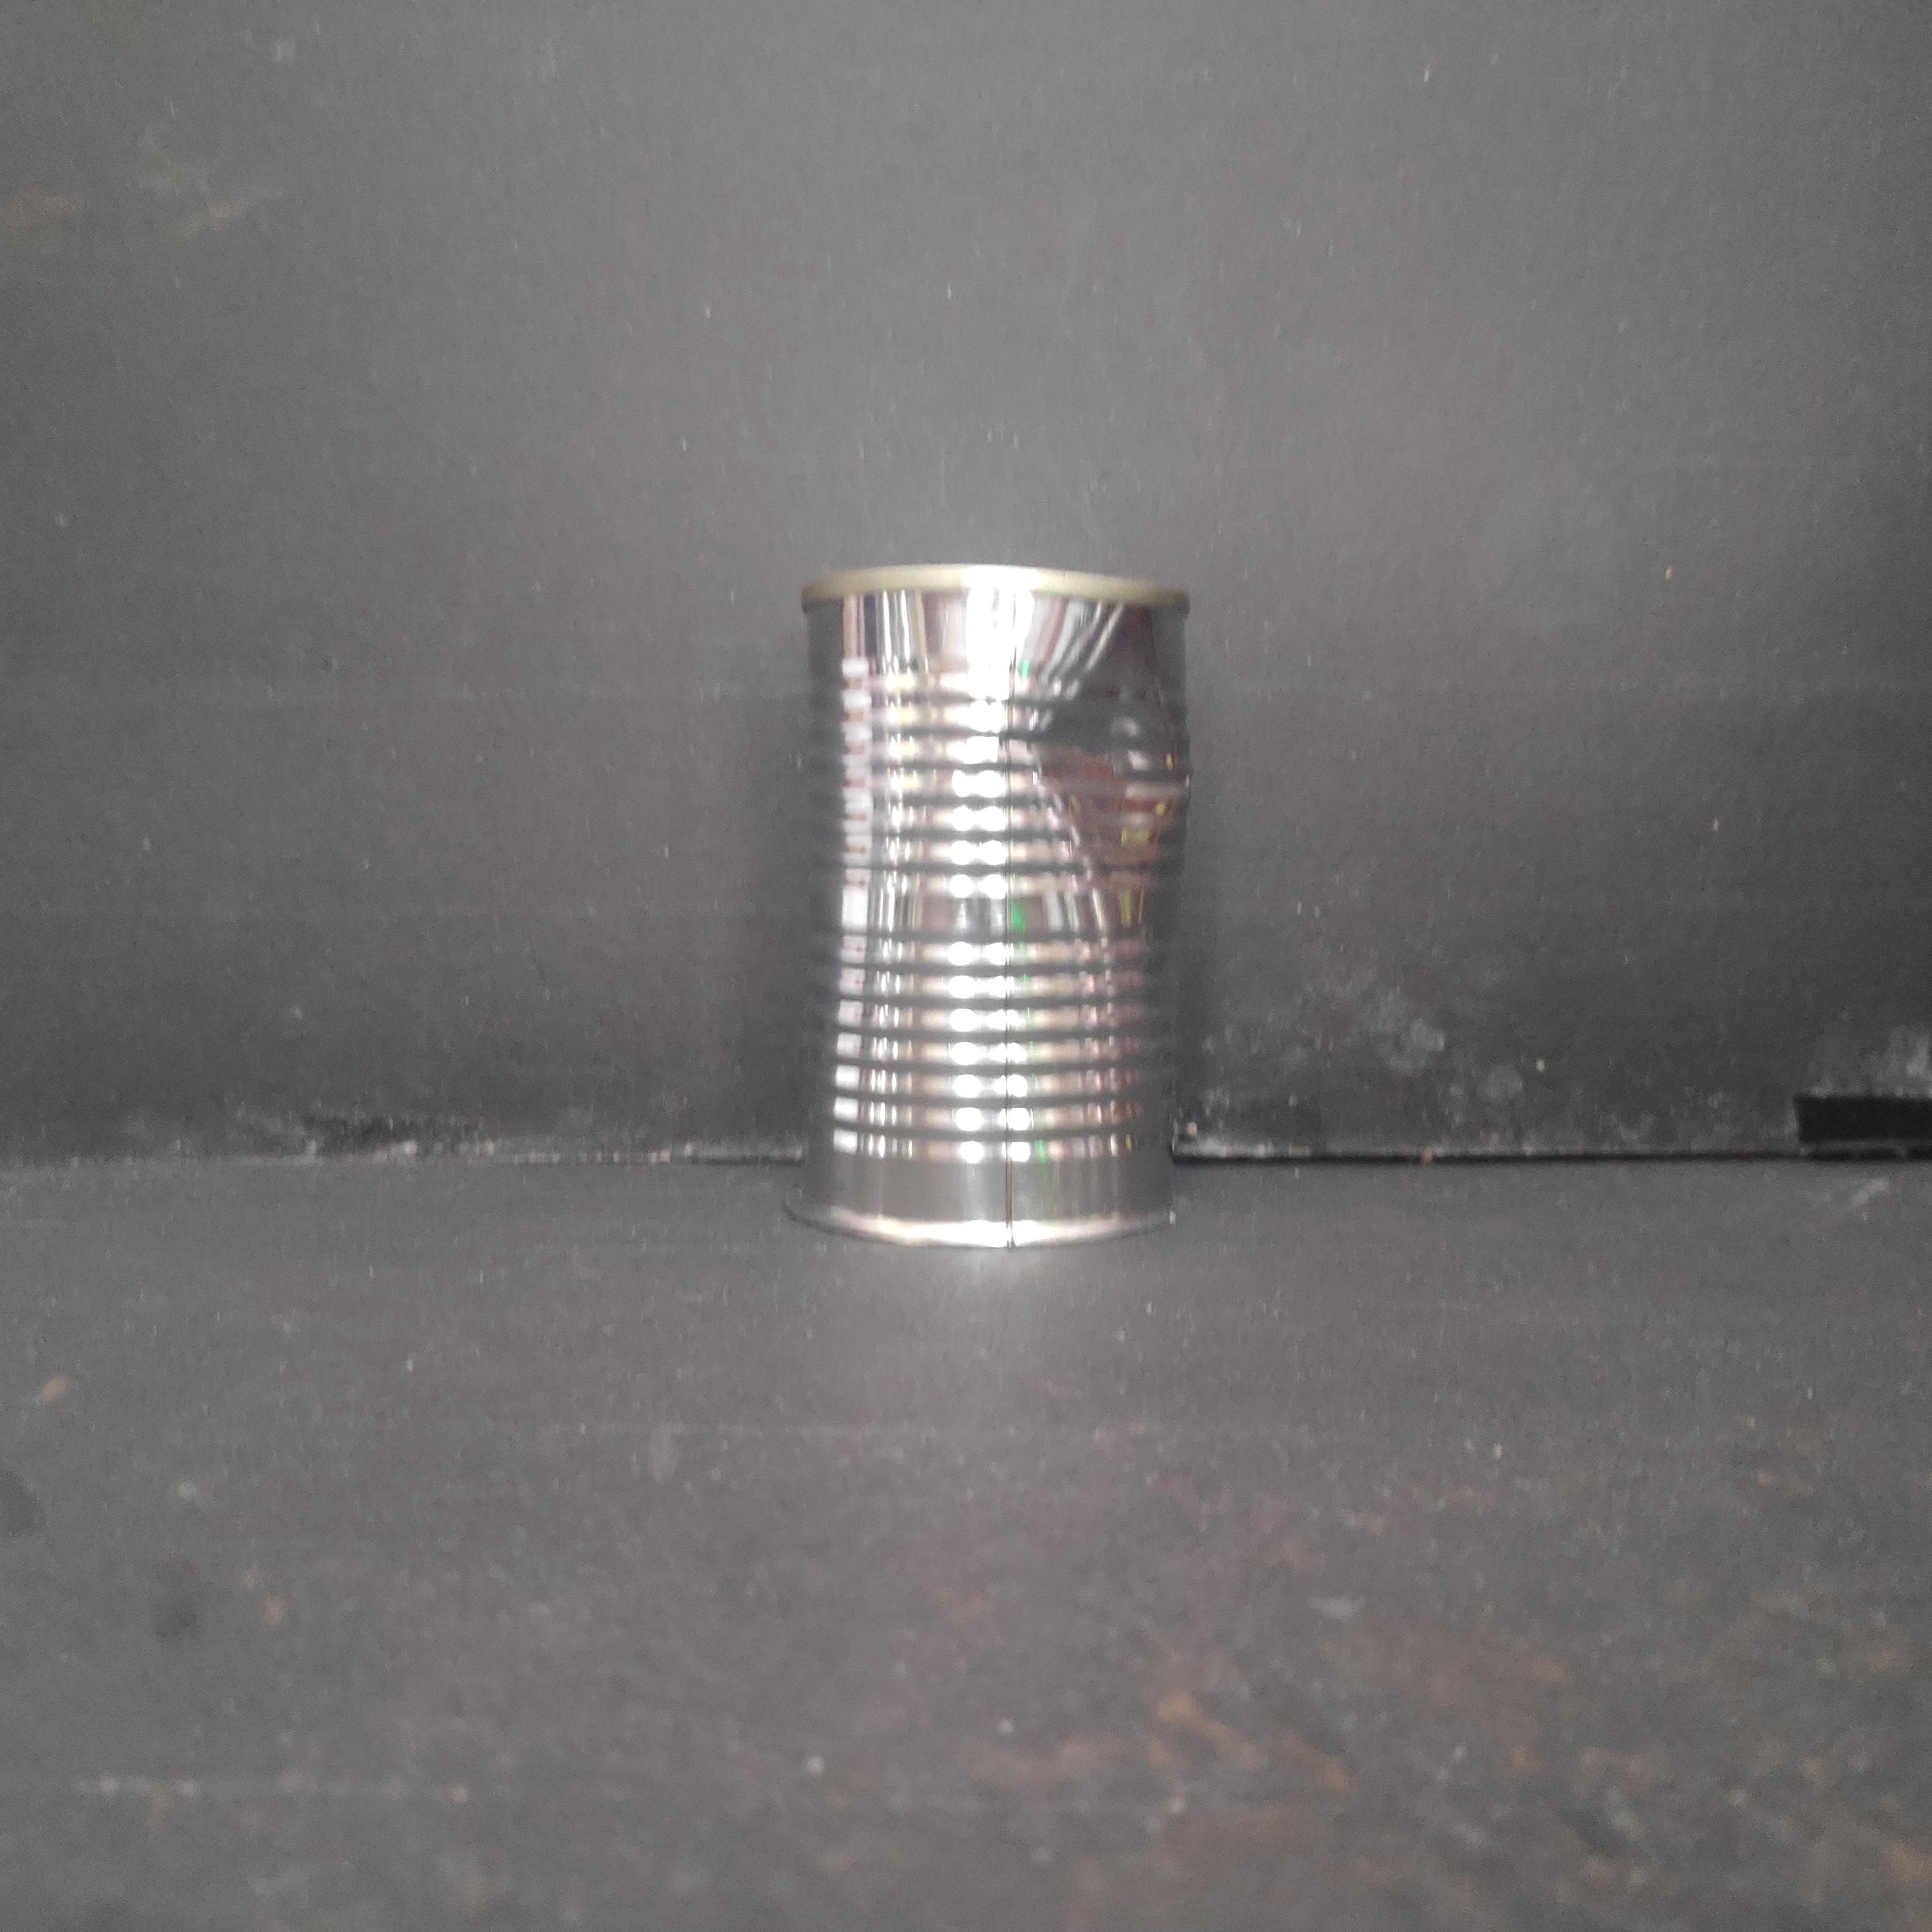Minor Defect: (793, 553, 1204, 1264)
